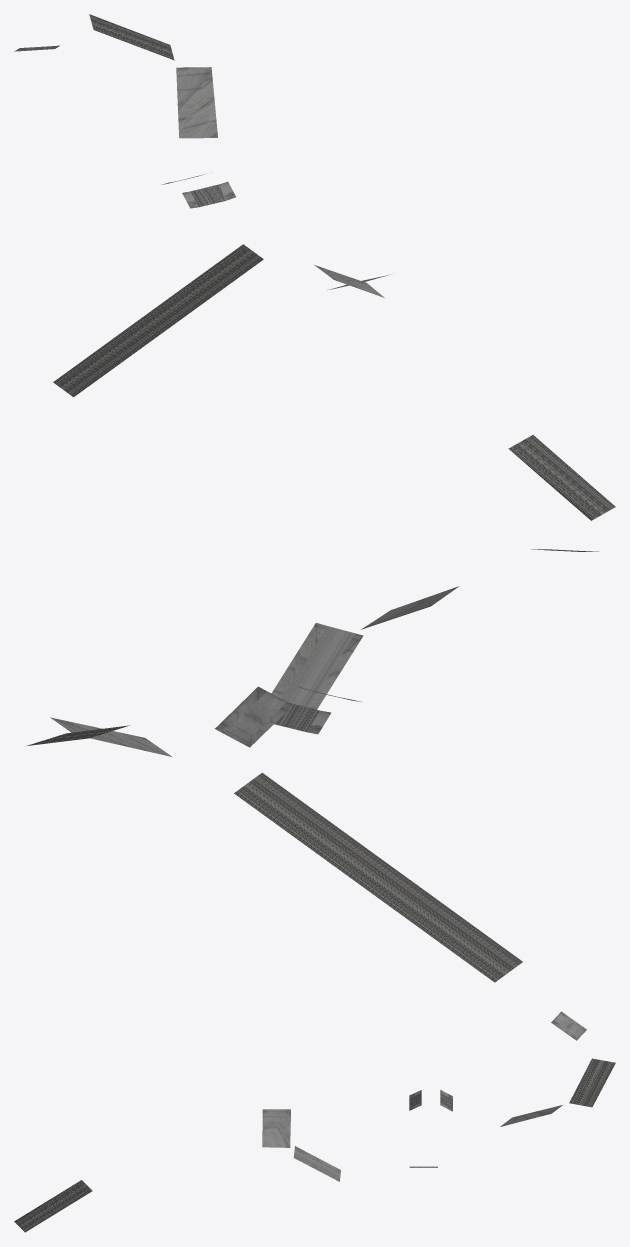
Rendered from SM_CorridorSculpture_02_stairs_Col.fbx.
3 views of the same model, one above another, from view 1: azimuth 30°, elevation 25°; view 2: azimuth 150°, elevation 25°; view 3: azimuth 270°, elevation 25° (orthographic). The views are drawn at different scales.
Parts seen in each view (by area): view 1: SM_CorridorSculpture_02_stairs_Col; view 2: SM_CorridorSculpture_02_stairs_Col; view 3: SM_CorridorSculpture_02_stairs_Col.
Boxes of the visible parts, x1=… form: SM_CorridorSculpture_02_stairs_Col: x1=14, y1=14, x2=615, y2=520; SM_CorridorSculpture_02_stairs_Col: x1=25, y1=549, x2=598, y2=982; SM_CorridorSculpture_02_stairs_Col: x1=14, y1=1011, x2=615, y2=1232.
Size of the model in its own units: 2095 by 1944 by 6082.
